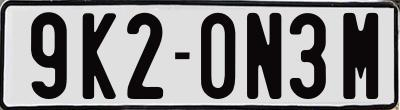0: (198, 11, 236, 102)
2: (126, 13, 167, 103)
3: (287, 10, 326, 99)
9: (31, 12, 70, 104)
K: (80, 12, 114, 104)
M: (340, 12, 379, 100)
N: (246, 13, 281, 102)
